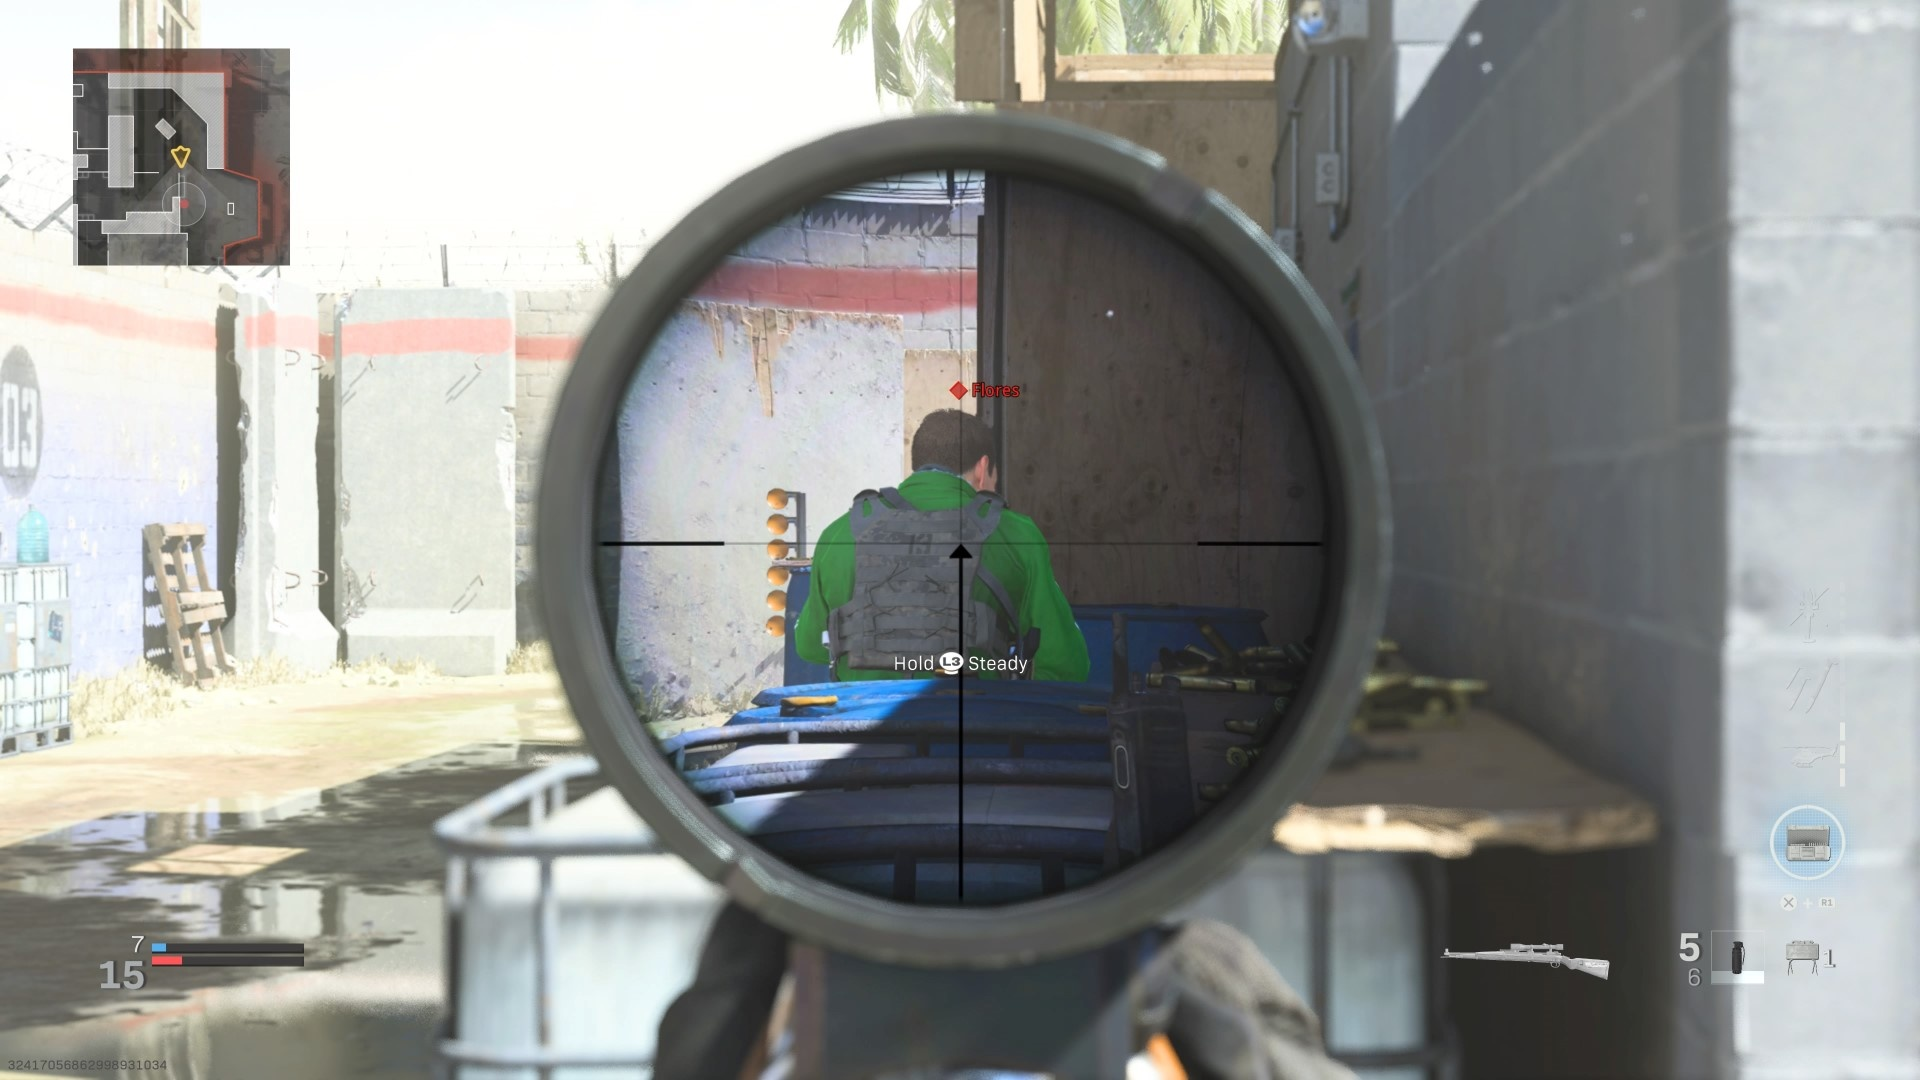head: (908, 405, 1001, 509)
person: (805, 401, 1079, 685)
